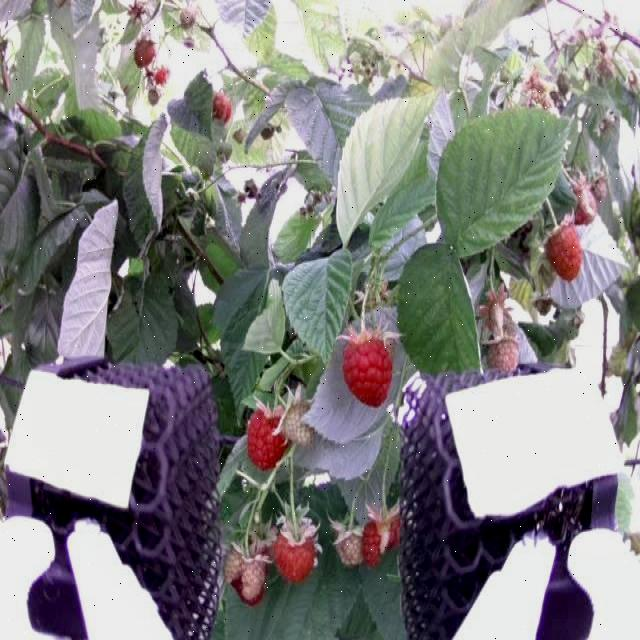Riped berries: (336, 326, 397, 404), (230, 538, 276, 601), (540, 215, 585, 279), (245, 402, 285, 468), (363, 504, 407, 563), (277, 524, 319, 581), (210, 86, 234, 123)
